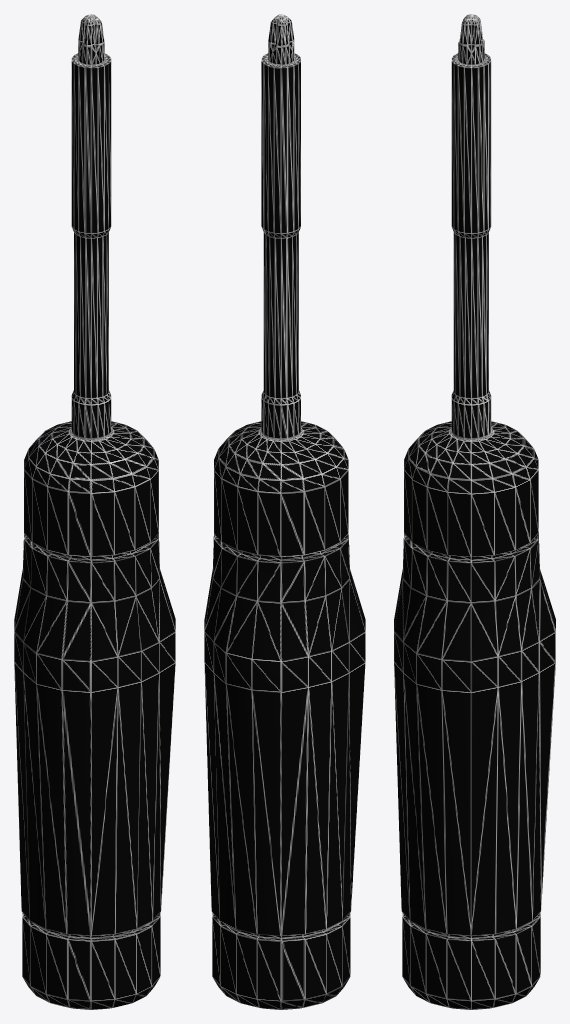
File: screwer.obj
3 views of the same model, side by side, from view 1: azimuth 30°, elevation 25°; view 2: azimuth 150°, elevation 25°; view 3: azimuth 270°, elevation 25° (orthographic).
Parts seen in each view (by area): view 1: pCylinder2; view 2: pCylinder2; view 3: pCylinder2.
Boxes of the visible parts, box(x1,y1,x2,y2) form: pCylinder2: box(14, 14, 175, 1009); pCylinder2: box(204, 14, 365, 1009); pCylinder2: box(394, 14, 555, 1009).
Size of the model in its own units: 1.94 by 12.56 by 1.89.
